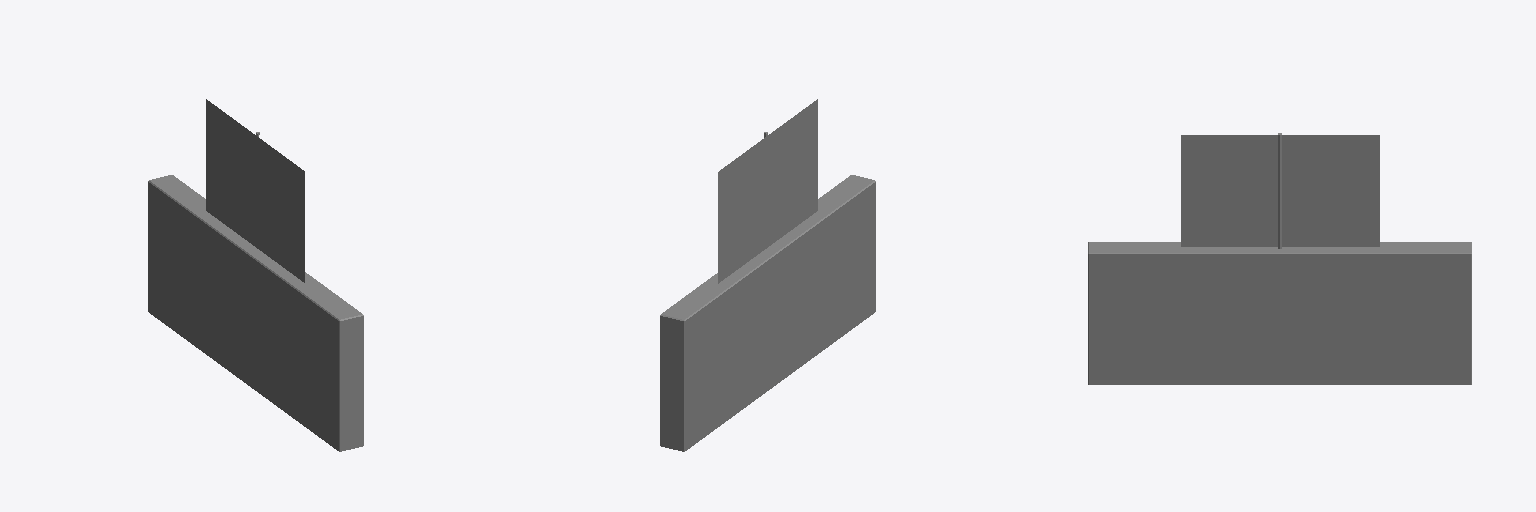
The model's file is wall_fence.obj.
3 views of the same model, side by side, from view 1: azimuth 30°, elevation 25°; view 2: azimuth 150°, elevation 25°; view 3: azimuth 270°, elevation 25° (orthographic).
Parts seen in each view (by area): view 1: wallFence, wire; view 2: wallFence, wire; view 3: wallFence, wire.
Part boxes in pixels (left/top/right/bottom): wallFence: left=148, top=175, right=363, bottom=451; wire: left=206, top=99, right=304, bottom=282; wallFence: left=660, top=175, right=875, bottom=451; wire: left=718, top=99, right=817, bottom=283; wallFence: left=1088, top=242, right=1471, bottom=384; wire: left=1181, top=135, right=1379, bottom=246.
Size of the model in its own units: 11.81 by 110 by 156.